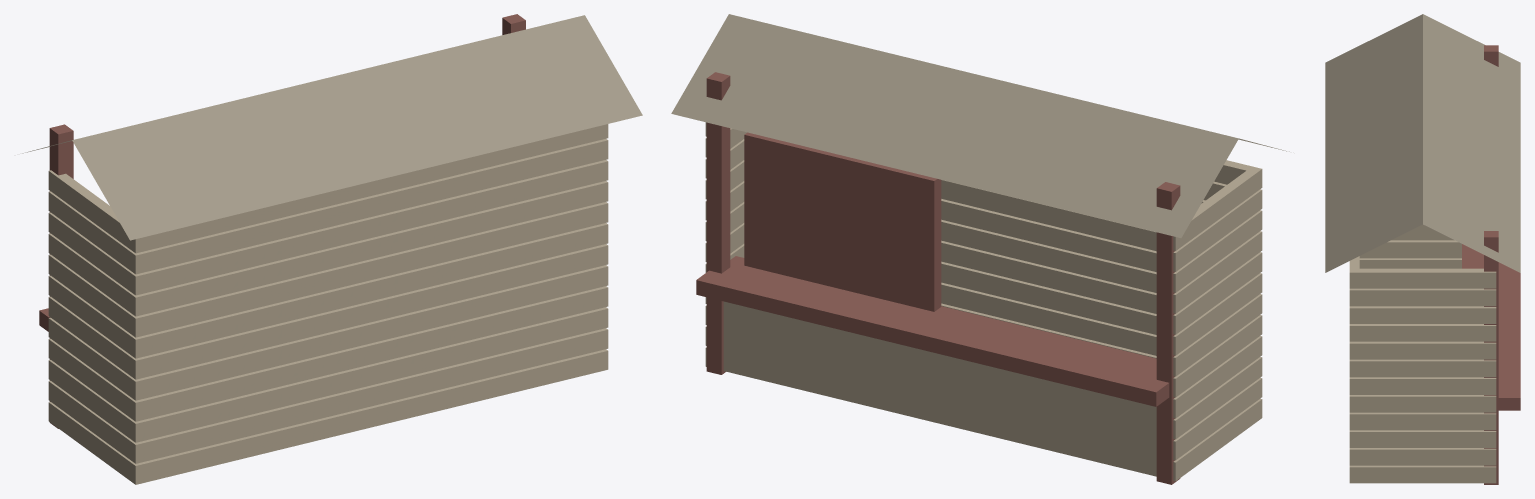
Rendered from ForestShop.fbx.
3 renders of one model, left to right at view 1: azimuth 30°, elevation 25°; view 2: azimuth 150°, elevation 25°; view 3: azimuth 270°, elevation 25°, orthographic. The views are drawn at different scales.
Visible parts, largest first — view 1: Roof, BackPlank3, BackPlank4, BackPlank5, BackPlank7, BackPlank2, BackPlank6, BackPlank8, BackPlank1, BackPlank9, BackPlank0, BackPlank10 (+14 smaller); view 2: Roof, LowerFront, GunBoard, Counter, Post-1, Post1, BackPlank2, BackPlank3, BackPlank5, BackPlank6, BackPlank4, BackPlank7 (+13 smaller); view 3: Roof, Counter, Side-1_11, Side-1_7, Side-1_0, Side-1_10, Side-1_3, Side-1_6, Side-1_1, Side-1_4, Side-1_2, Side-1_5 (+7 smaller).
Boxes of the visible parts, x1,y1,x2,y2 form: Roof: (22, 15, 642, 240); BackPlank3: (139, 288, 603, 420); BackPlank4: (140, 266, 603, 399); BackPlank5: (140, 245, 603, 377); BackPlank7: (140, 203, 603, 336); BackPlank2: (140, 308, 603, 441); BackPlank6: (139, 225, 603, 357); BackPlank8: (139, 182, 603, 314); BackPlank1: (139, 329, 603, 462); BackPlank9: (139, 161, 603, 293); BackPlank0: (139, 351, 603, 483); BackPlank10: (140, 140, 603, 272); Roof: (671, 14, 1289, 237); LowerFront: (723, 301, 1156, 476); GunBoard: (744, 132, 941, 311); Counter: (696, 256, 1169, 406); Post-1: (706, 72, 730, 374); Post1: (1156, 182, 1180, 484); BackPlank2: (941, 282, 1156, 355); BackPlank3: (941, 261, 1156, 334); BackPlank5: (941, 219, 1156, 292); BackPlank6: (941, 199, 1156, 271); BackPlank4: (941, 240, 1156, 313); BackPlank7: (941, 180, 1156, 251); Roof: (1325, 14, 1520, 272); Counter: (1462, 244, 1520, 410); Side-1_11: (1349, 268, 1496, 288); Side-1_7: (1349, 341, 1496, 359); Side-1_0: (1349, 465, 1496, 483); Side-1_10: (1349, 288, 1496, 306); Side-1_3: (1349, 412, 1496, 430); Side-1_6: (1349, 359, 1496, 377); Side-1_1: (1349, 448, 1496, 465); Side-1_4: (1349, 395, 1496, 412); Side-1_2: (1349, 430, 1496, 447); Side-1_5: (1349, 377, 1496, 394).
Bounding box in the file's own units: 5.1 × 3.05 × 2.
